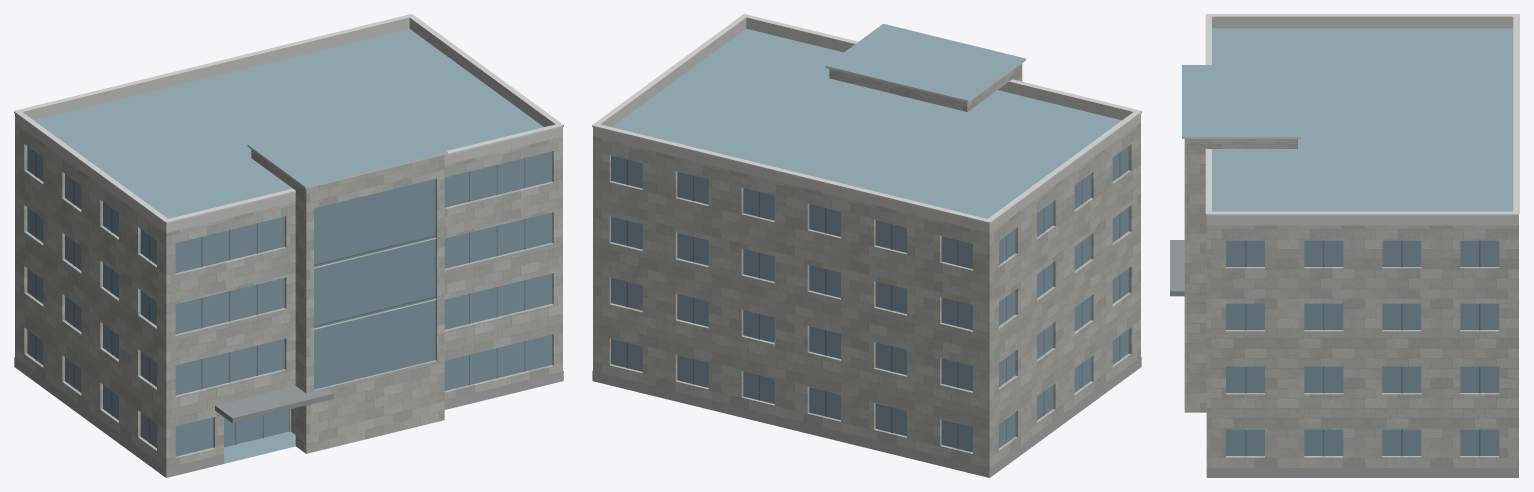
3 views of the same model, side by side, from view 1: azimuth 30°, elevation 25°; view 2: azimuth 150°, elevation 25°; view 3: azimuth 270°, elevation 25° (orthographic). The views are drawn at different scales.
Parts seen in each view (by area): view 1: archLab__wall, archLab__glass, archLab__roof, archLab__parapet, archLab__trim, archLab__base, archLab__frame, archLab__canopy; view 2: archLab__wall, archLab__roof, archLab__glass, archLab__parapet, archLab__base, archLab__trim, archLab__frame; view 3: archLab__wall, archLab__roof, archLab__glass, archLab__parapet, archLab__trim, archLab__base, archLab__frame, archLab__canopy.
Boxes of the visible parts, x1,y1,x2,y2 form: archLab__wall: (15,122,562,477); archLab__glass: (27,146,552,456); archLab__roof: (34,28,543,477); archLab__parapet: (15,17,562,232); archLab__trim: (14,14,563,223); archLab__base: (14,357,563,477); archLab__frame: (35,152,525,444); archLab__canopy: (215,385,333,423); archLab__wall: (593,63,1140,477); archLab__roof: (612,23,1121,477); archLab__glass: (611,146,1128,452); archLab__parapet: (593,17,1140,232); archLab__base: (592,357,1141,477); archLab__trim: (592,14,1141,223); archLab__frame: (626,152,1120,448); archLab__wall: (1184,139,1518,467); archLab__roof: (1182,28,1513,211); archLab__glass: (1226,240,1499,455); archLab__parapet: (1206,16,1518,225); archLab__trim: (1182,14,1519,215); archLab__base: (1206,468,1518,477); archLab__frame: (1245,240,1480,456); archLab__canopy: (1170,240,1184,296).
Size of the model in its own units: 25.93 by 16.72 by 19.13.
Materials: 9 (1 with a texture image).
